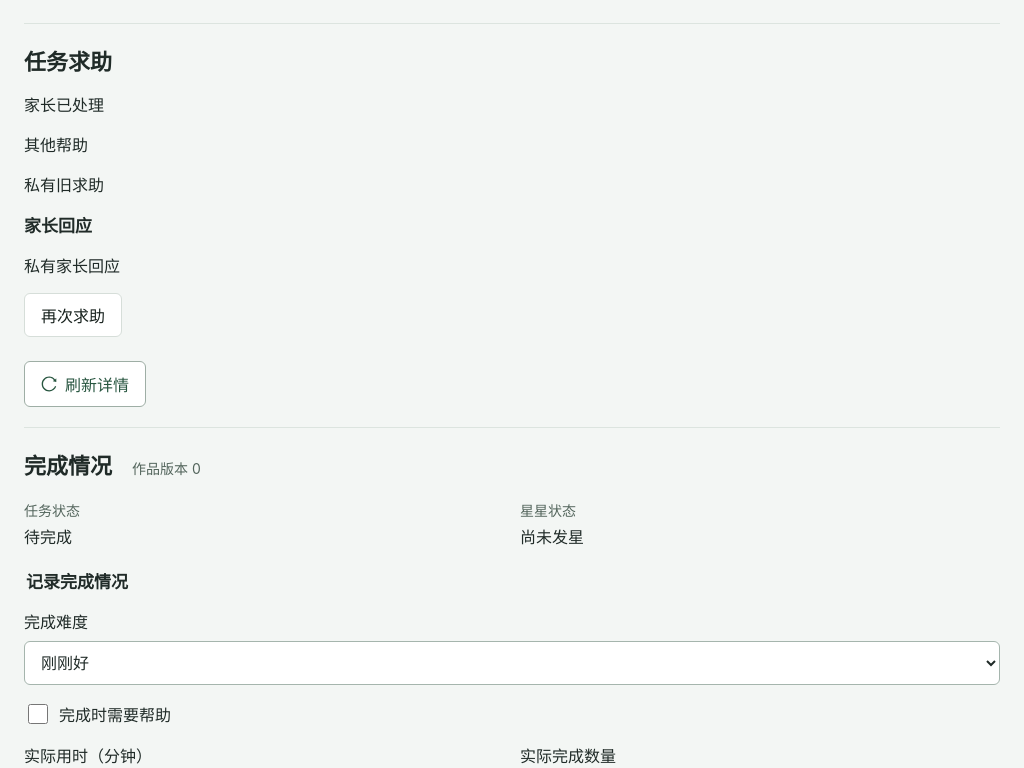
Test: child task completion › detail refresh 403 removes the visible private question and parent response
(page scrolled)
Expected: the text "私有家长回应" is shown, left=24, top=256, right=120, bottom=276
Click the button "刷新详情": (85, 384) left=24, top=361, right=146, bottom=407
(page scrolled)
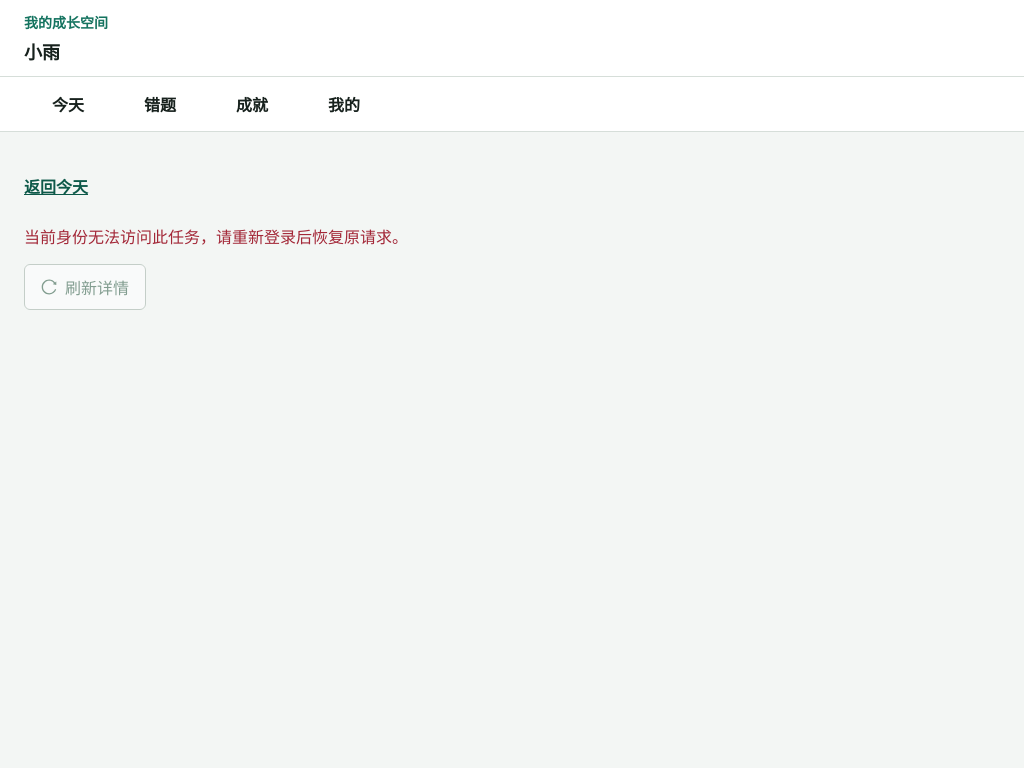
Expected: the heading "任务求助" is gone
Expected: the text "私有旧求助" is gone
Expected: the text "私有家长回应" is gone
